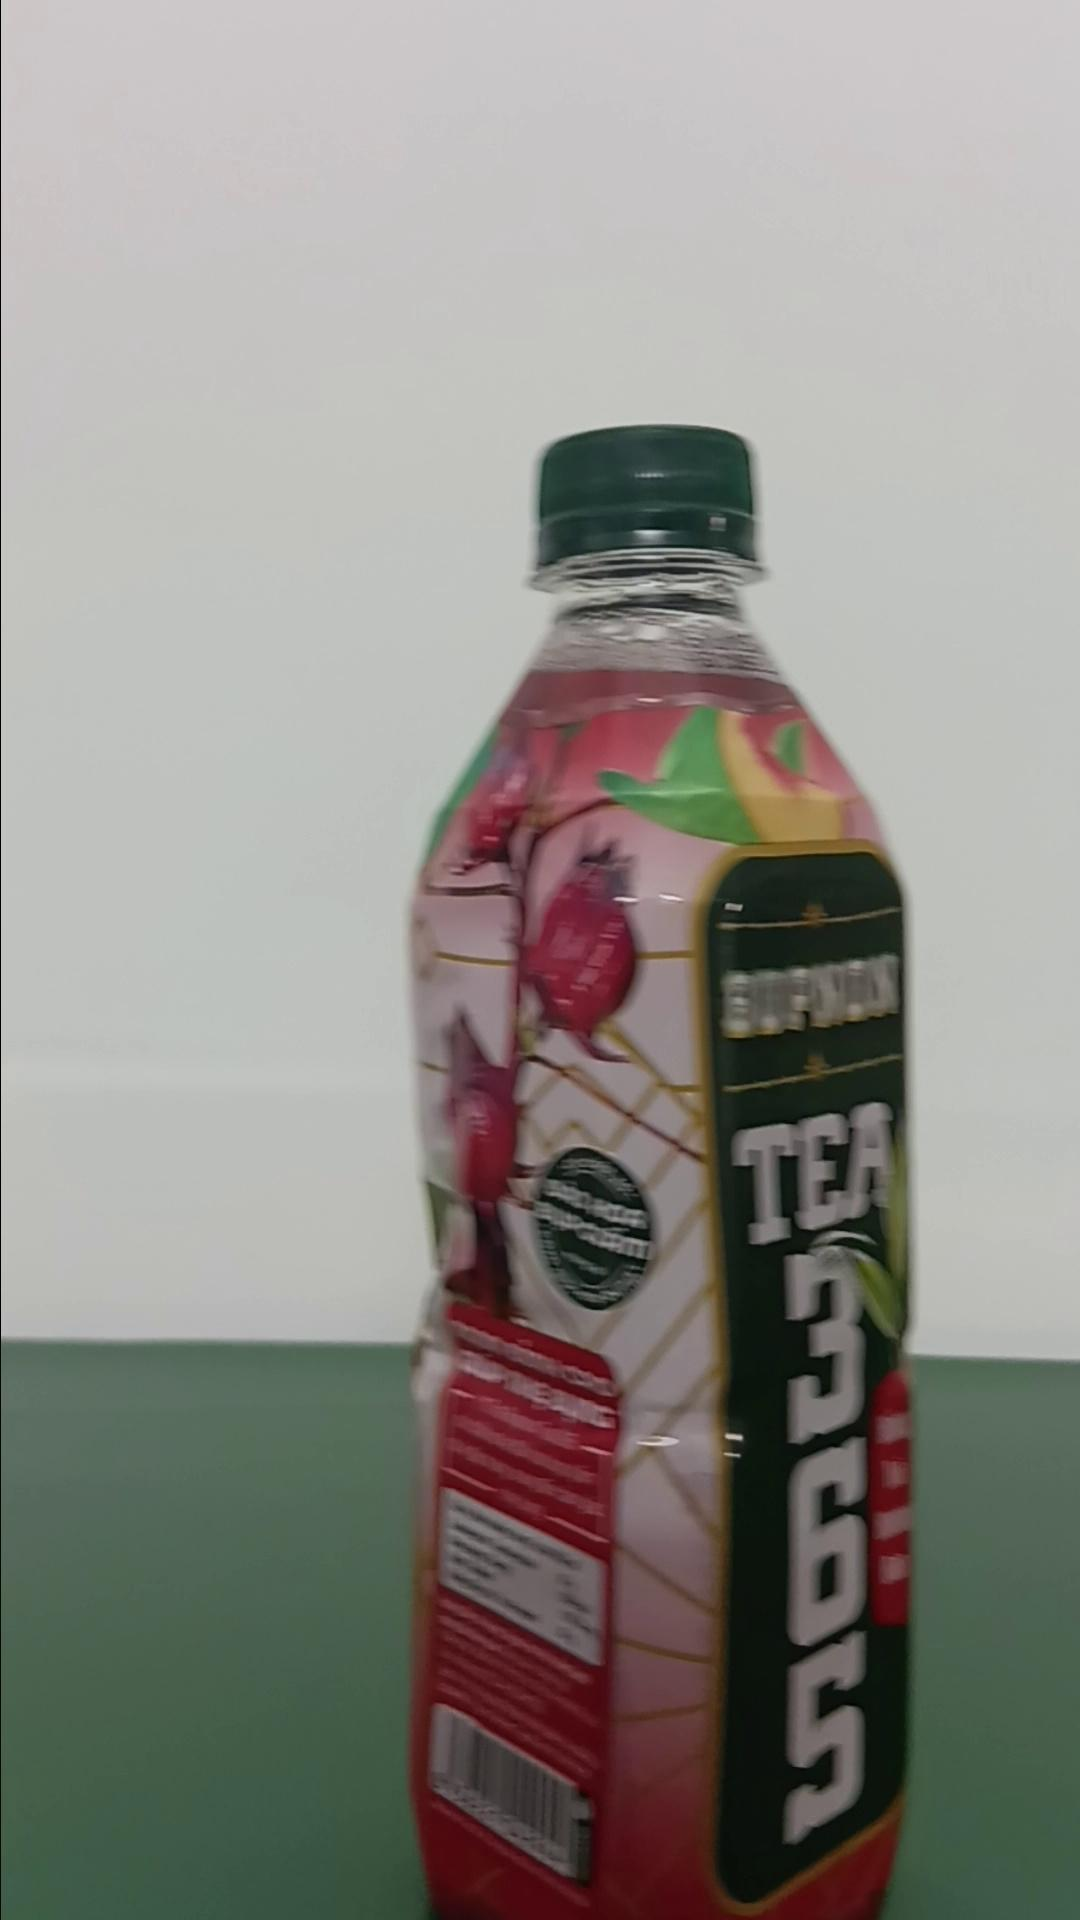loi meo sp: (401, 419, 919, 1915)
